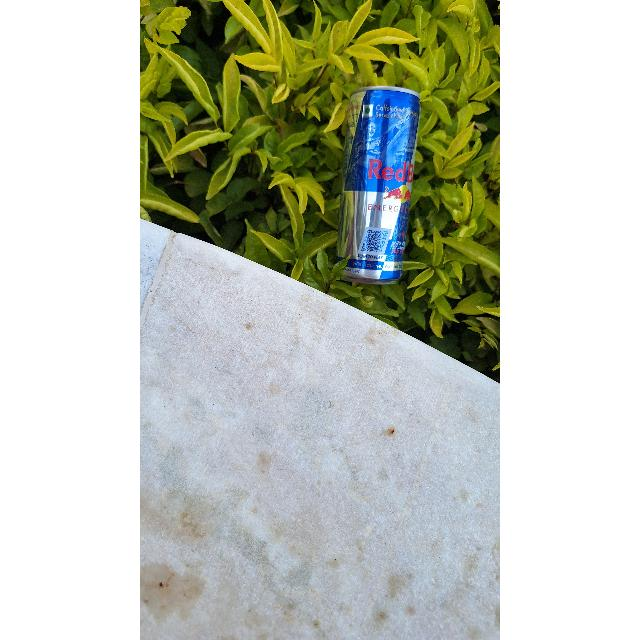Redbull DanceYourStyle: (338, 80, 422, 286)
